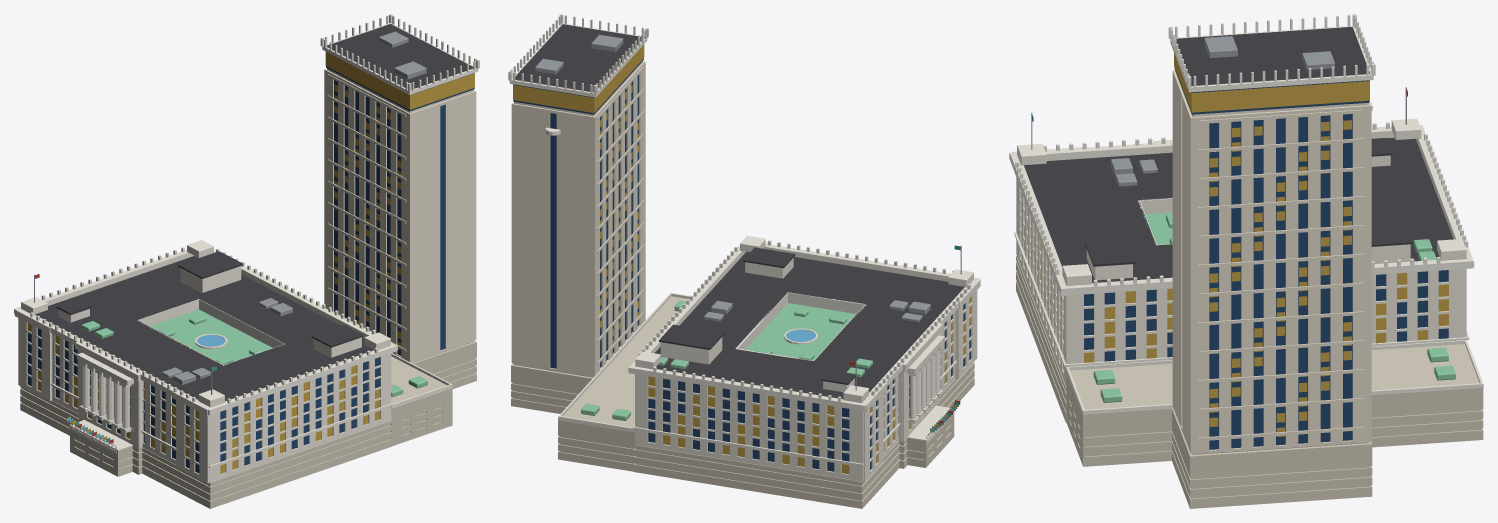
Rendered from fairmont-san-francisco.glb.
3 views of the same model, side by side, from view 1: azimuth 30°, elevation 25°; view 2: azimuth 150°, elevation 25°; view 3: azimuth 270°, elevation 25° (orthographic). The views are drawn at different scales.
Visible parts, largest first — view 1: fairmont-san-francisco, glow_crown_room, glow_win_s, glow_rooms_w, glow_cornice_line, twr_crown_fascia, glow_win_w; view 2: fairmont-san-francisco, glow_win_n, glow_crown_room, glow_cornice_line, twr_crown_fascia, glow_rooms_w; view 3: fairmont-san-francisco, glow_rooms_e, glow_crown_room, glow_win_e, twr_crown_fascia, glow_cornice_line.
Boxes of the visible parts, x1,y1,x2,y2 form: fairmont-san-francisco: (14, 14, 479, 508); glow_crown_room: (325, 52, 474, 109); glow_win_s: (220, 365, 380, 473); glow_rooms_w: (334, 84, 401, 349); glow_cornice_line: (14, 309, 397, 414); twr_crown_fascia: (322, 23, 478, 94); glow_win_w: (55, 335, 175, 453); fairmont-san-francisco: (508, 14, 980, 508); glow_win_n: (648, 376, 849, 474); glow_crown_room: (513, 44, 644, 112); glow_cornice_line: (628, 303, 959, 410); twr_crown_fascia: (509, 23, 647, 97); glow_rooms_w: (600, 85, 638, 344); fairmont-san-francisco: (1009, 14, 1483, 508); glow_rooms_e: (1209, 120, 1351, 436); glow_crown_room: (1174, 53, 1369, 112); glow_win_e: (1084, 273, 1448, 362); twr_crown_fascia: (1170, 25, 1373, 92); glow_cornice_line: (1009, 154, 1474, 294).
Size of the model in its own units: 125 by 99.06 by 98.39.
